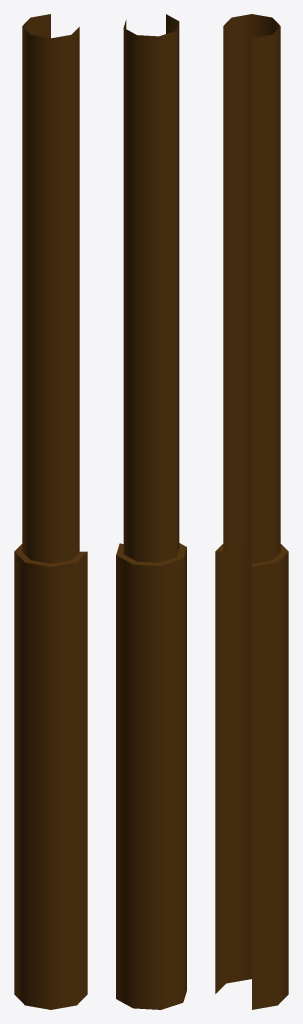
File: Modular Muur Hoekstuk.fbx
The picture shows the model from 3 angles, left to right: view 1: azimuth 90°, elevation 25°; view 2: azimuth 150°, elevation 25°; view 3: azimuth 270°, elevation 25°; orthographic projection.
Parts seen in each view (by area): view 1: Modular Muur Hoekstuk; view 2: Modular Muur Hoekstuk; view 3: Modular Muur Hoekstuk.
Part boxes in pixels (x1=…): Modular Muur Hoekstuk: x1=14, y1=14, x2=87, y2=1009; Modular Muur Hoekstuk: x1=116, y1=14, x2=186, y2=1009; Modular Muur Hoekstuk: x1=215, y1=14, x2=288, y2=1009.
Size of the model in its own units: 21.13 by 308 by 21.13.
